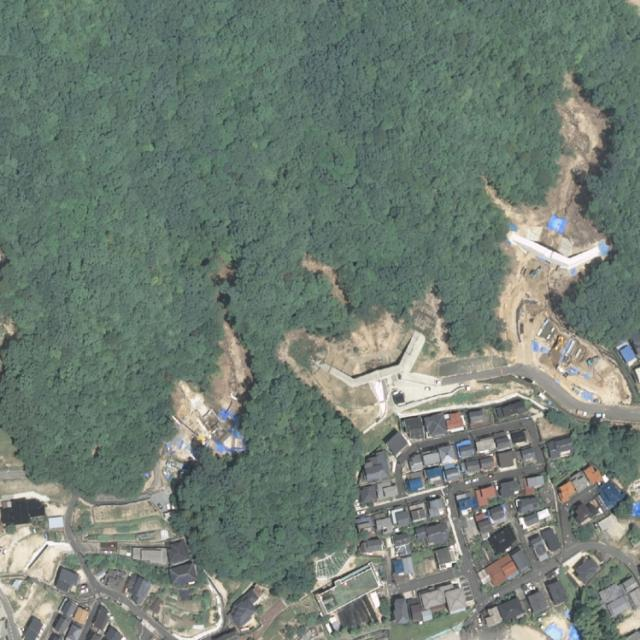landslide: (441, 72, 640, 426), (172, 260, 249, 448)
